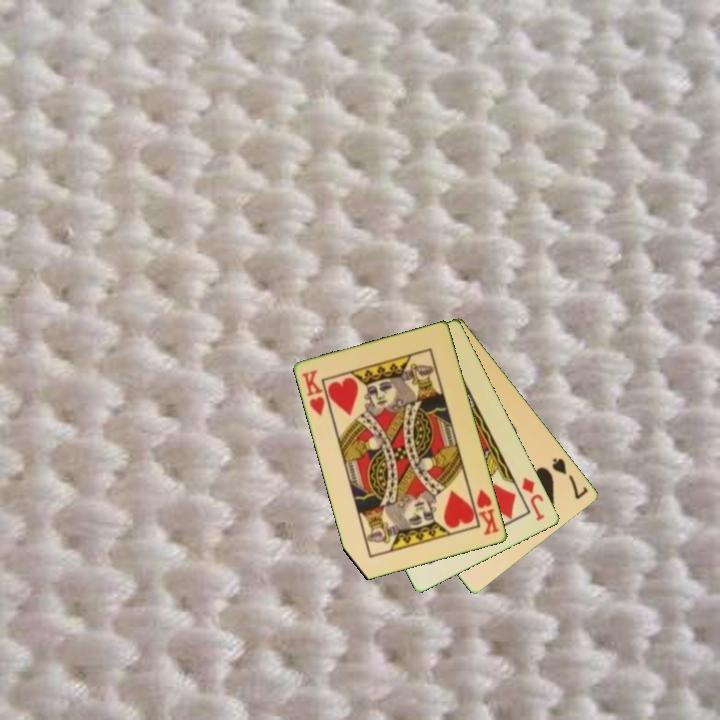7s: (549, 454, 592, 502)
Jd: (518, 474, 548, 524)
Kh: (467, 486, 503, 538), (299, 366, 328, 419)
